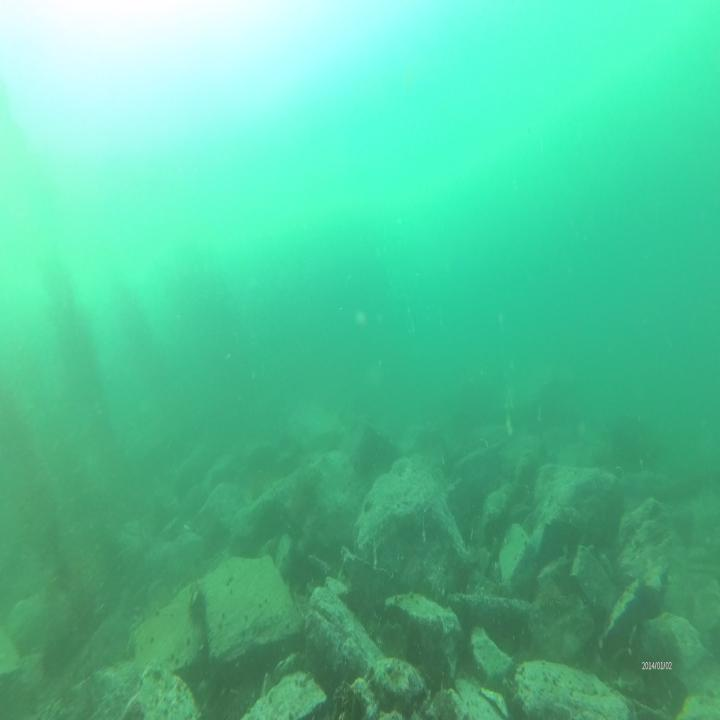echinus: (187, 587, 209, 627)
